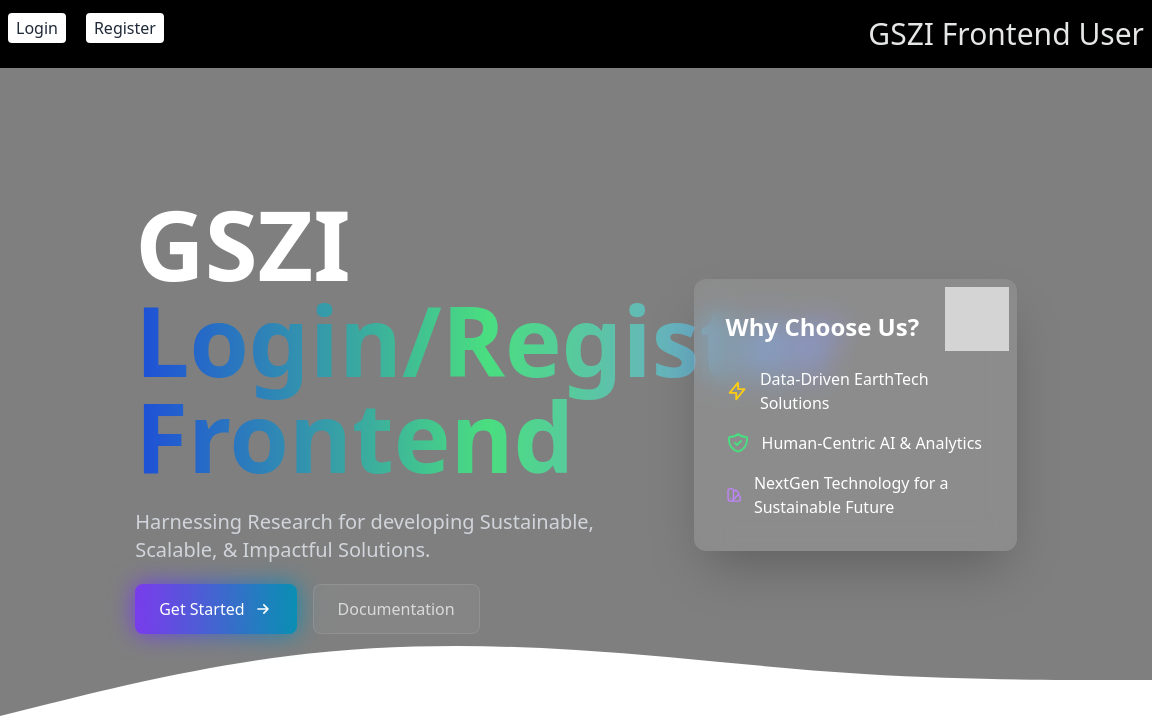
Test case: Fooldal es menu › Login menupont mukodik-e?
The image size is (1152, 720).
Click the link "Login".
click(37, 28)  # box [8,13,66,43]
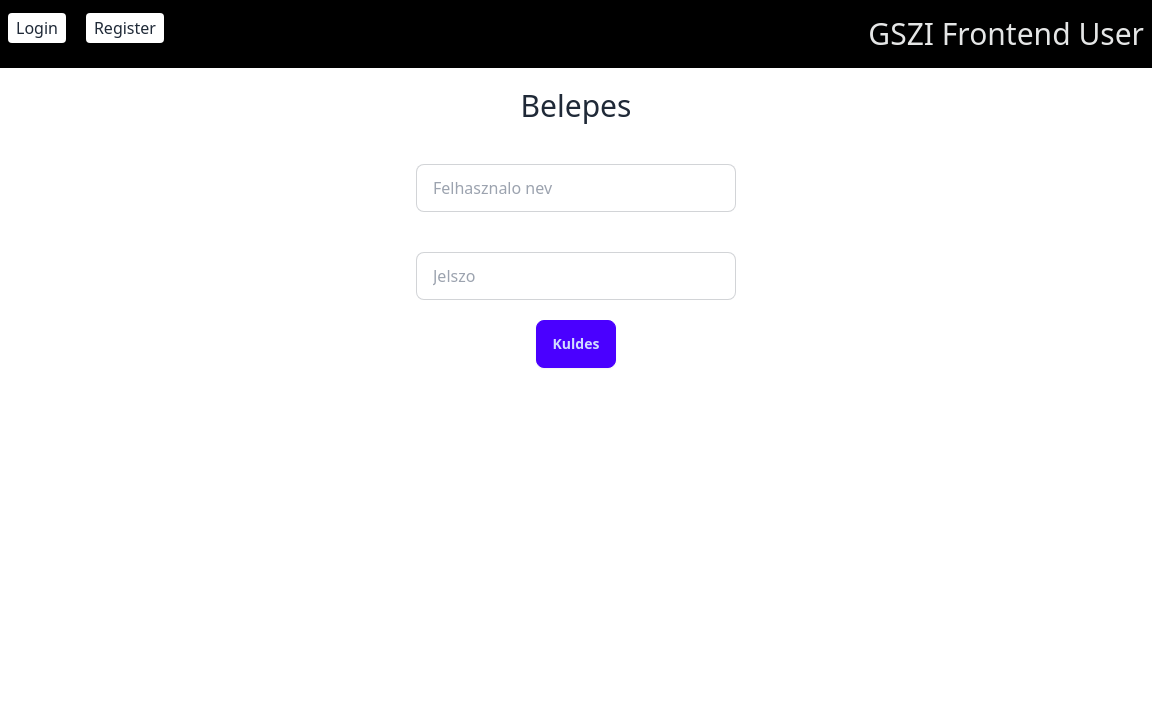
Expected: the heading "Belepes" is shown, [521,85,631,126]
